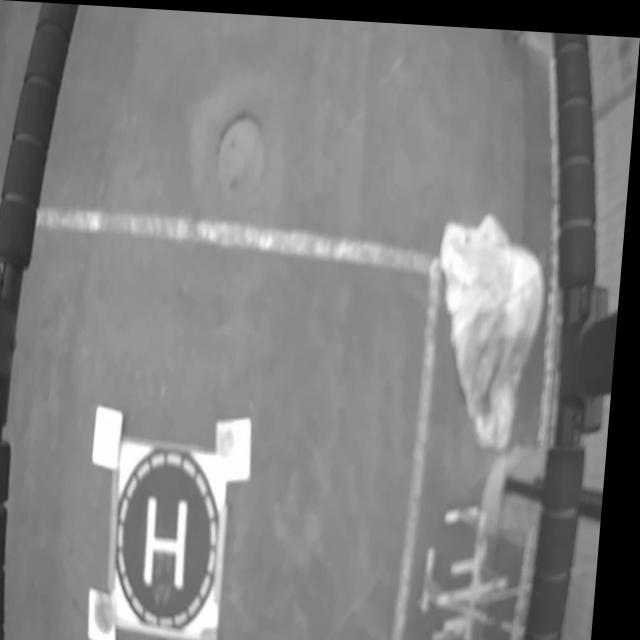Helipad: (152, 494, 198, 587)
